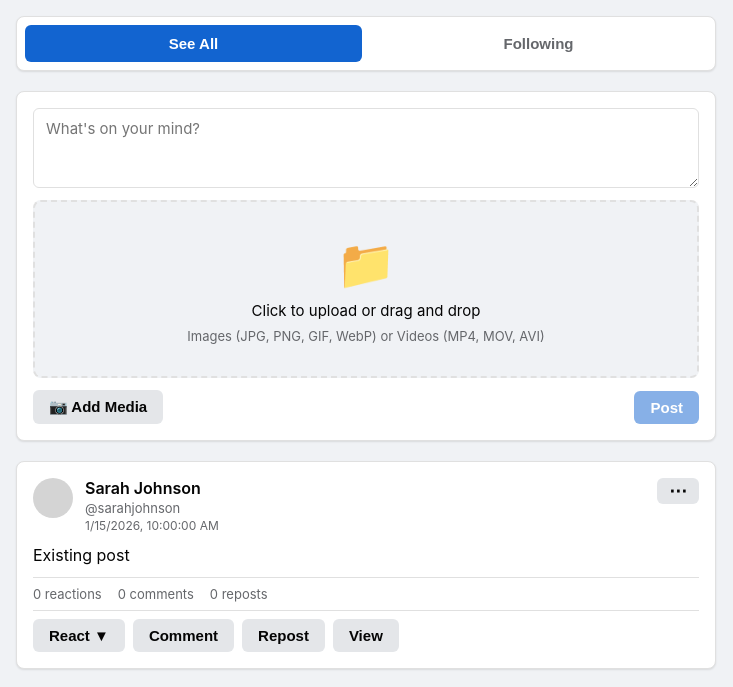
it: Feed Page › loads the following feed when the Following tab is clicked
The width and height of the screenshot is (733, 687).
Expected: the text "Existing post" is shown, x1=33 y1=545 x2=130 y2=565
Step 1. Click the button "Following" → point(538, 44), box x1=370 y1=25 x2=707 y2=62
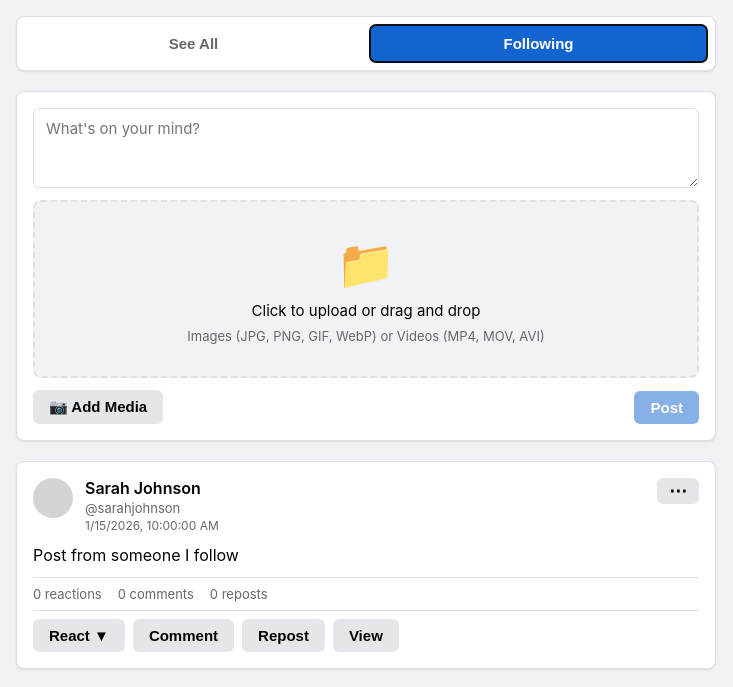
Expected: the text "Post from someone I follow" is shown, x1=33 y1=545 x2=239 y2=565
